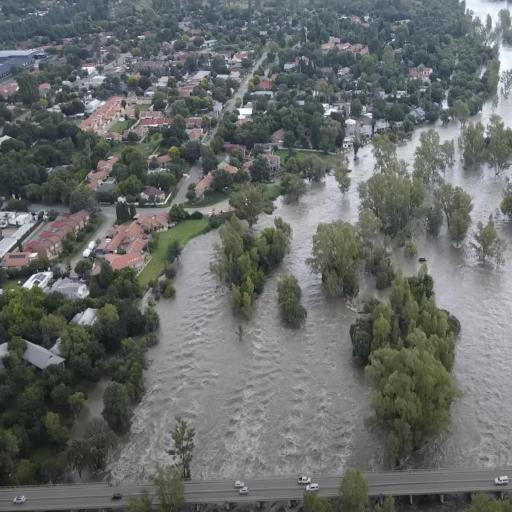flood: (111, 145, 385, 481), (413, 154, 512, 467), (398, 119, 462, 165), (471, 91, 512, 126), (467, 0, 512, 20), (501, 43, 512, 73)
house: (31, 209, 92, 265), (78, 96, 124, 135), (192, 162, 238, 200), (22, 337, 68, 372), (86, 154, 121, 192), (46, 275, 90, 303), (103, 248, 149, 273), (342, 118, 374, 151), (256, 150, 286, 185), (136, 208, 170, 236), (68, 307, 102, 332), (134, 108, 169, 132), (3, 244, 30, 272), (408, 63, 434, 85), (138, 185, 169, 203), (189, 127, 204, 146), (376, 120, 390, 131)
